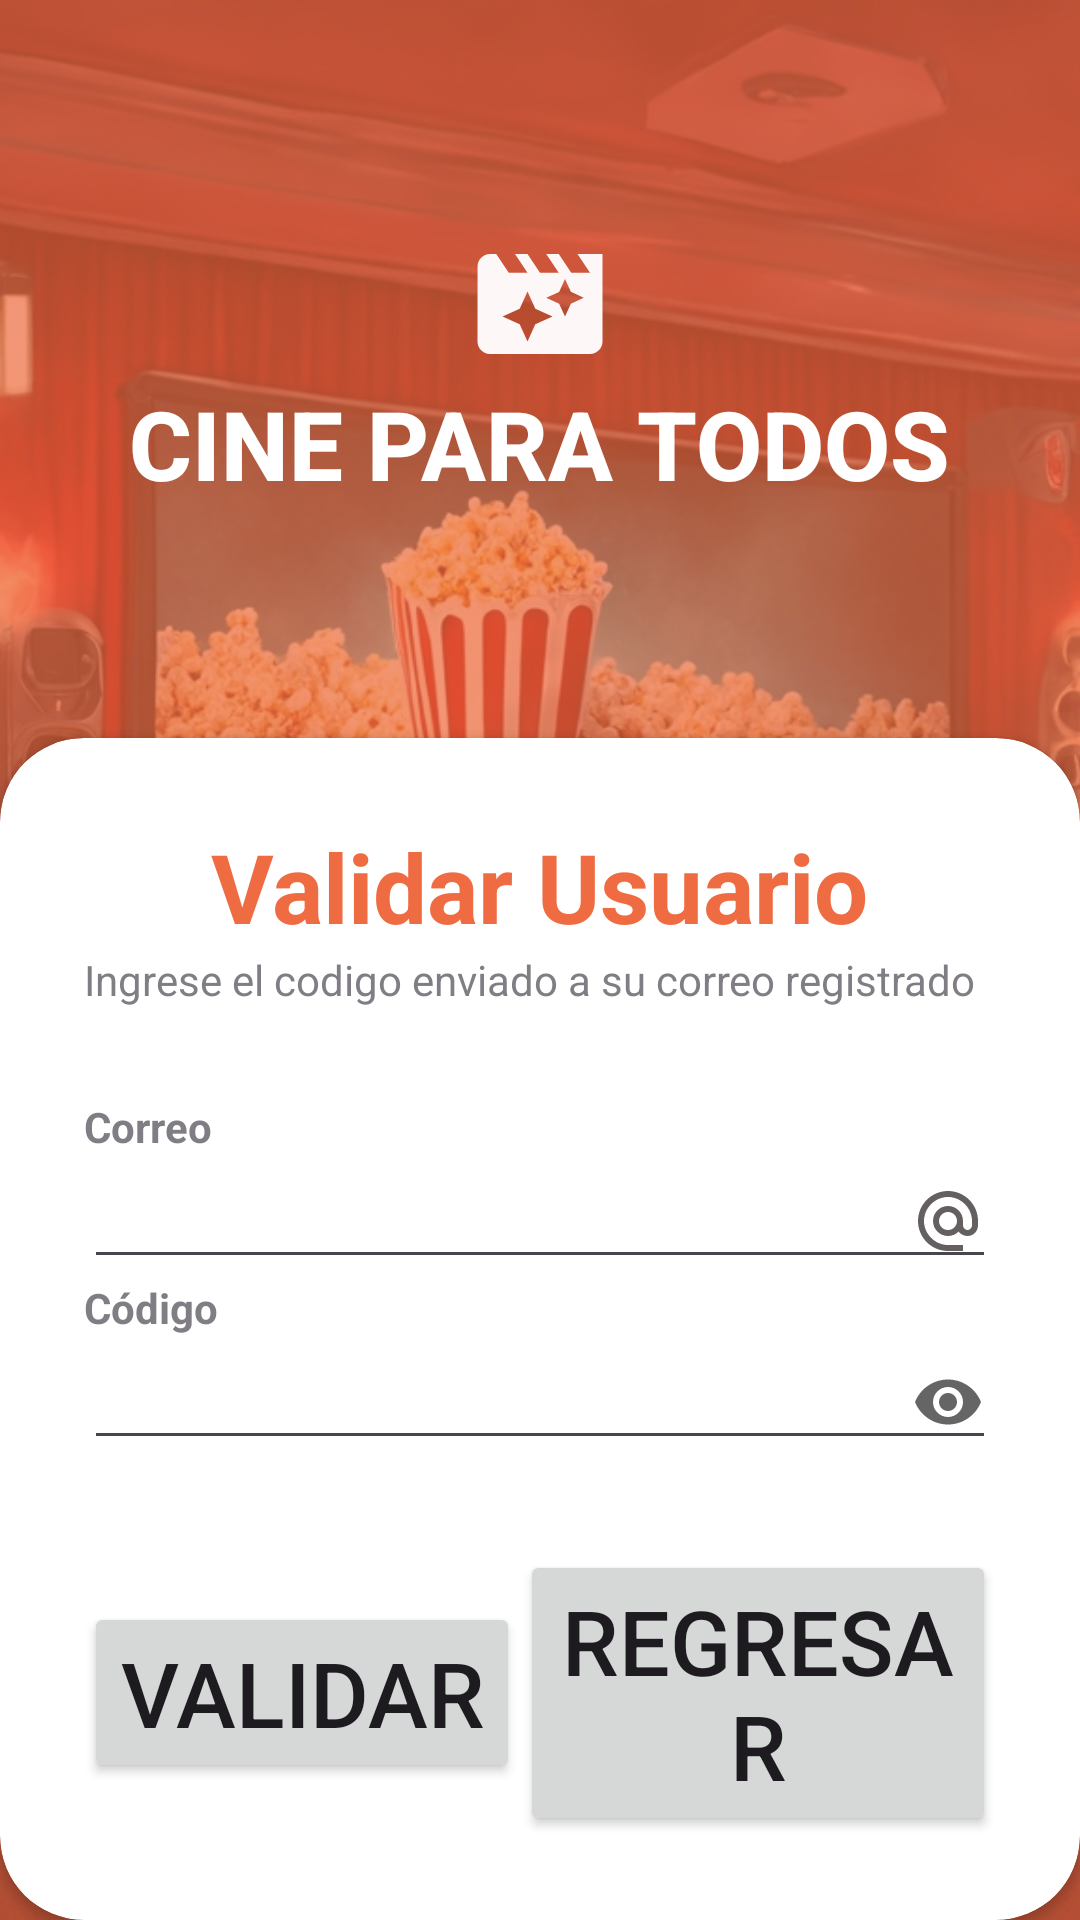

Screen size 1080*1920. Icon name, then its center in pixels as (x,y):
film: (540,304)
